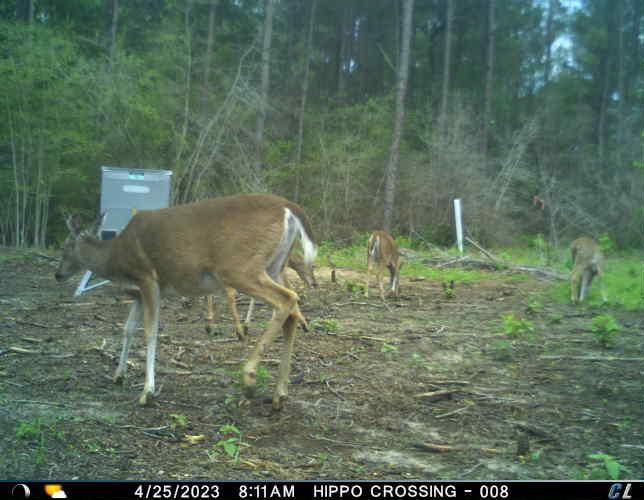Deer: (51, 191, 325, 419), (363, 227, 406, 304), (568, 233, 612, 308)
